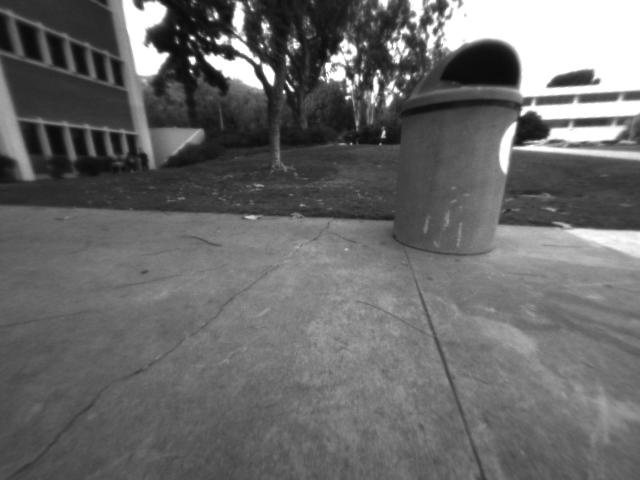trashcan: (389, 37, 526, 259)
